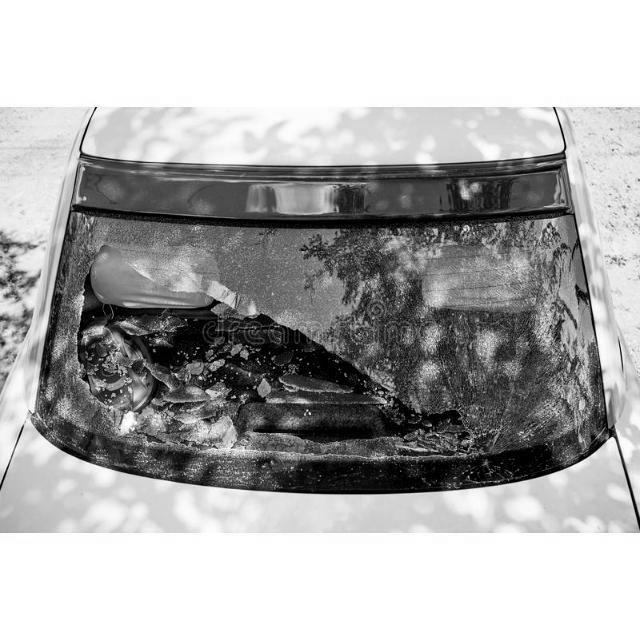Rear-windscreen-Damage: (35, 195, 625, 512)
